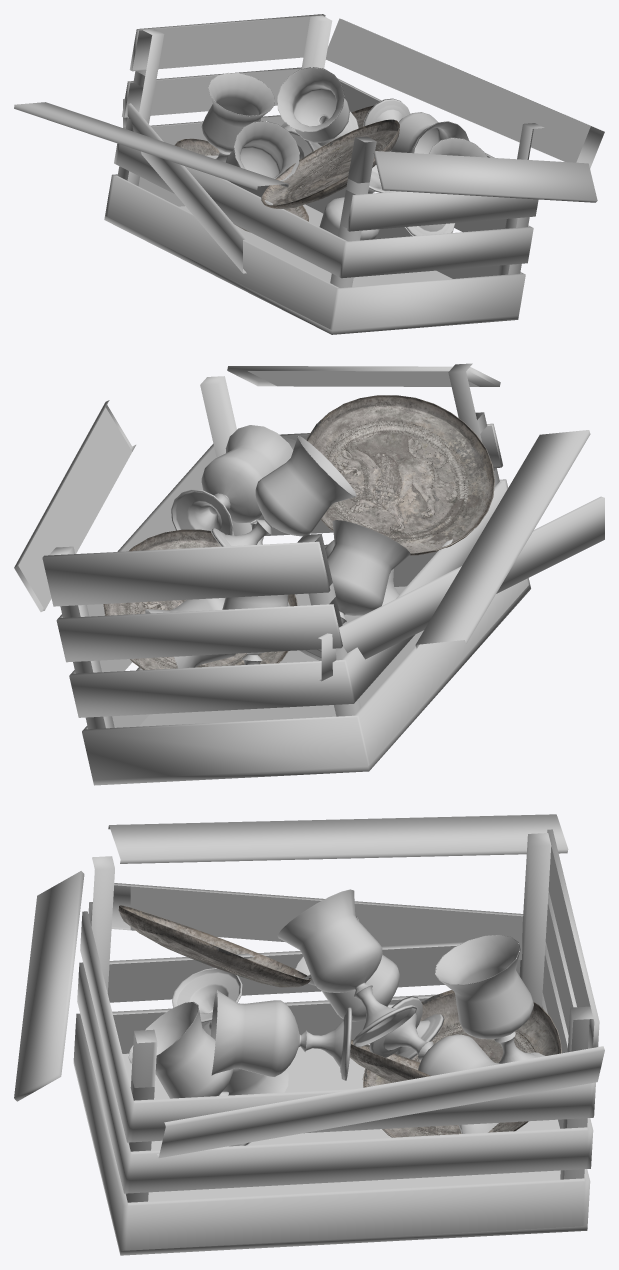
The model's file is SilverTreasure1.fbx.
3 views of the same model, one above another, from view 1: azimuth 30°, elevation 25°; view 2: azimuth 150°, elevation 25°; view 3: azimuth 270°, elevation 25° (orthographic). The views are drawn at different scales.
Parts seen in each view (by area): view 1: Guacal, Antique Silver Goblet Type A Smooth Silver Ornate.002, Plane.001; view 2: Guacal, Plane.001, Antique Silver Goblet Type A Smooth Silver Ornate.002; view 3: Guacal, Antique Silver Goblet Type A Smooth Silver Ornate.002, Plane.001.
Part boxes in pixels (bbox=[...]): Guacal: bbox=[14, 14, 604, 334]; Antique Silver Goblet Type A Smooth Silver Ornate.002: bbox=[201, 67, 487, 277]; Plane.001: bbox=[174, 105, 399, 232]; Guacal: bbox=[14, 363, 604, 785]; Plane.001: bbox=[103, 395, 494, 669]; Antique Silver Goblet Type A Smooth Silver Ornate.002: bbox=[145, 425, 410, 668]; Guacal: bbox=[14, 814, 604, 1255]; Antique Silver Goblet Type A Smooth Silver Ornate.002: bbox=[128, 889, 545, 1146]; Plane.001: bbox=[118, 905, 561, 1137].
Size of the model in its own units: 103 by 51.14 by 91.37.
